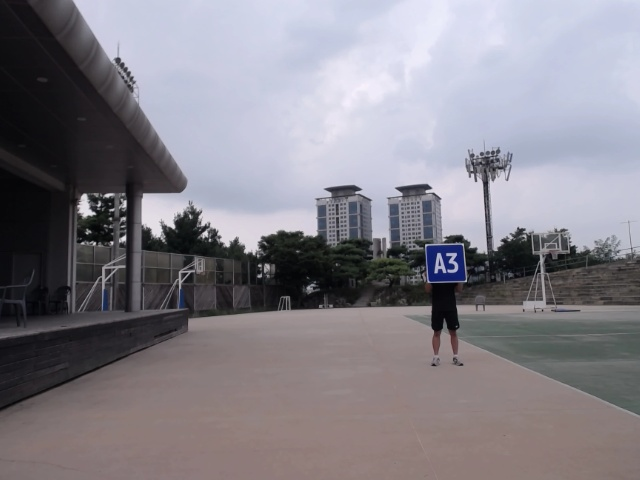delivery_a3: (425, 244, 468, 282)
